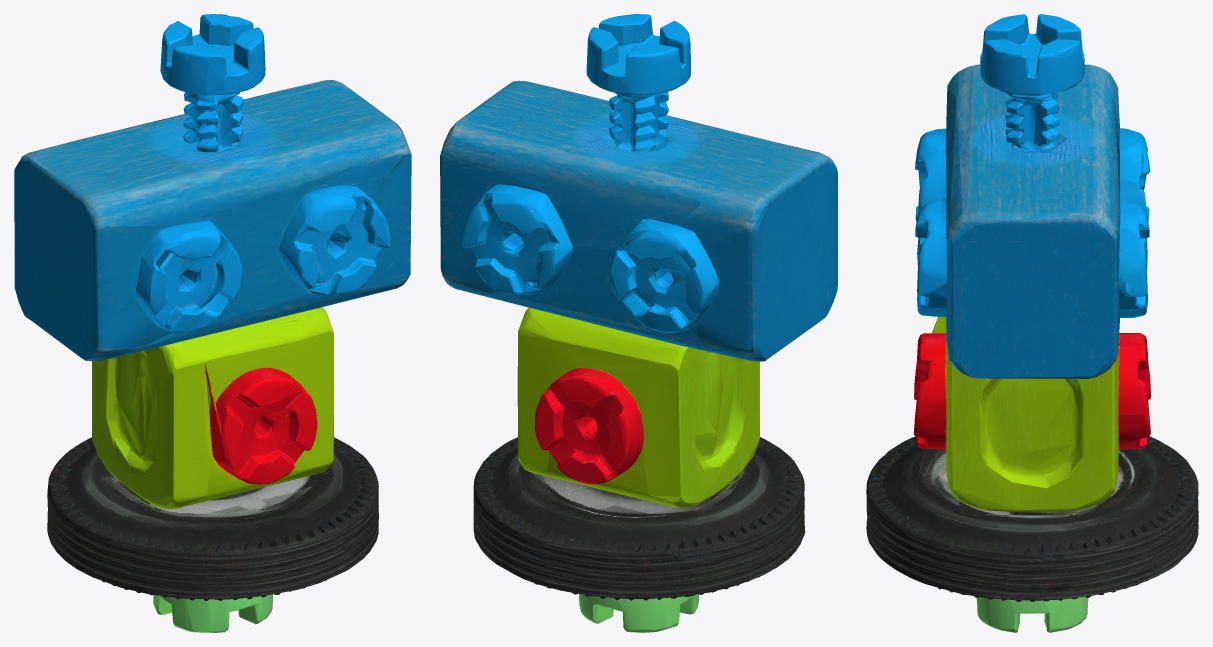
Rendered from robot.glb.
The picture shows the model from 3 angles, left to right: view 1: azimuth 30°, elevation 25°; view 2: azimuth 150°, elevation 25°; view 3: azimuth 270°, elevation 25°; orthographic projection.
Visible parts, largest first — view 1: Mesh_0; view 2: Mesh_0; view 3: Mesh_0.
Part boxes in pixels (bbox=[...]): Mesh_0: bbox=[14, 14, 411, 632]; Mesh_0: bbox=[440, 14, 837, 632]; Mesh_0: bbox=[866, 14, 1198, 632].
Size of the model in its own units: 1.1 by 1.9 by 0.9916.
Materials: 1 (1 with a texture image).
